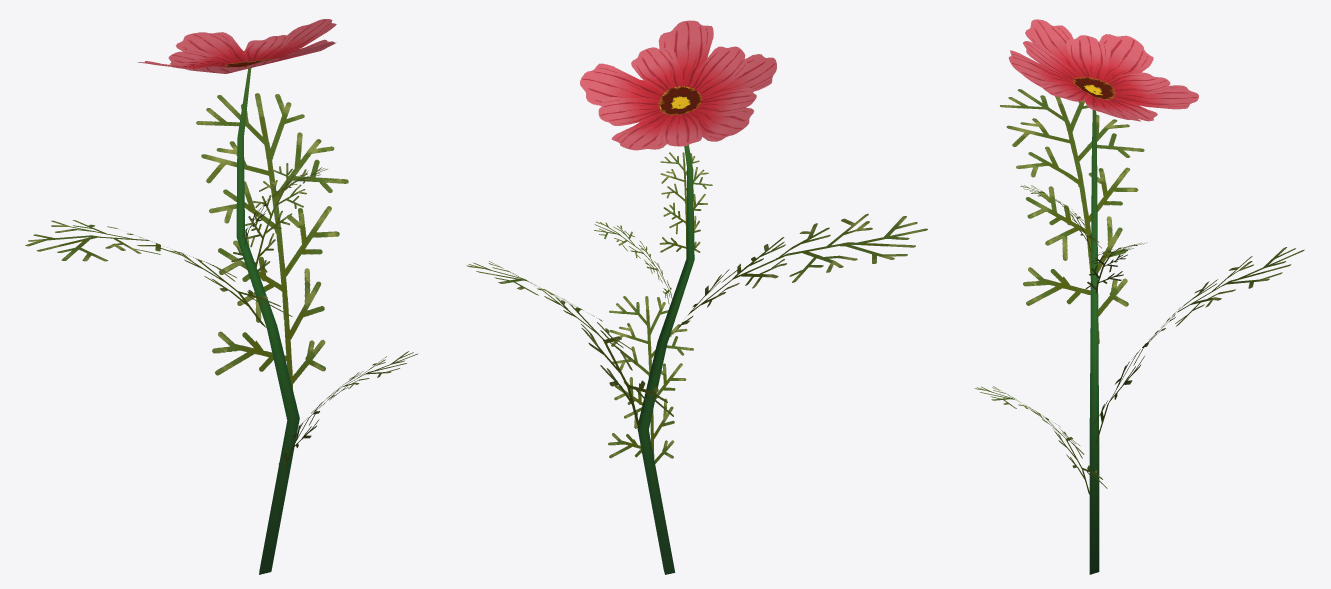
Rendered from Pink_Flower_1.fbx.
3 views of the same model, side by side, from view 1: azimuth 30°, elevation 25°; view 2: azimuth 150°, elevation 25°; view 3: azimuth 270°, elevation 25° (orthographic). The views are drawn at different scales.
Parts seen in each view (by area): view 1: R1; view 2: R1; view 3: R1.
Part boxes in pixels (box(x1,y1,x2,y2)): R1: box(25, 19, 417, 574); R1: box(466, 20, 927, 574); R1: box(974, 19, 1304, 574).
Bounding box in the file's own units: 67.96 × 91.83 × 55.52.
